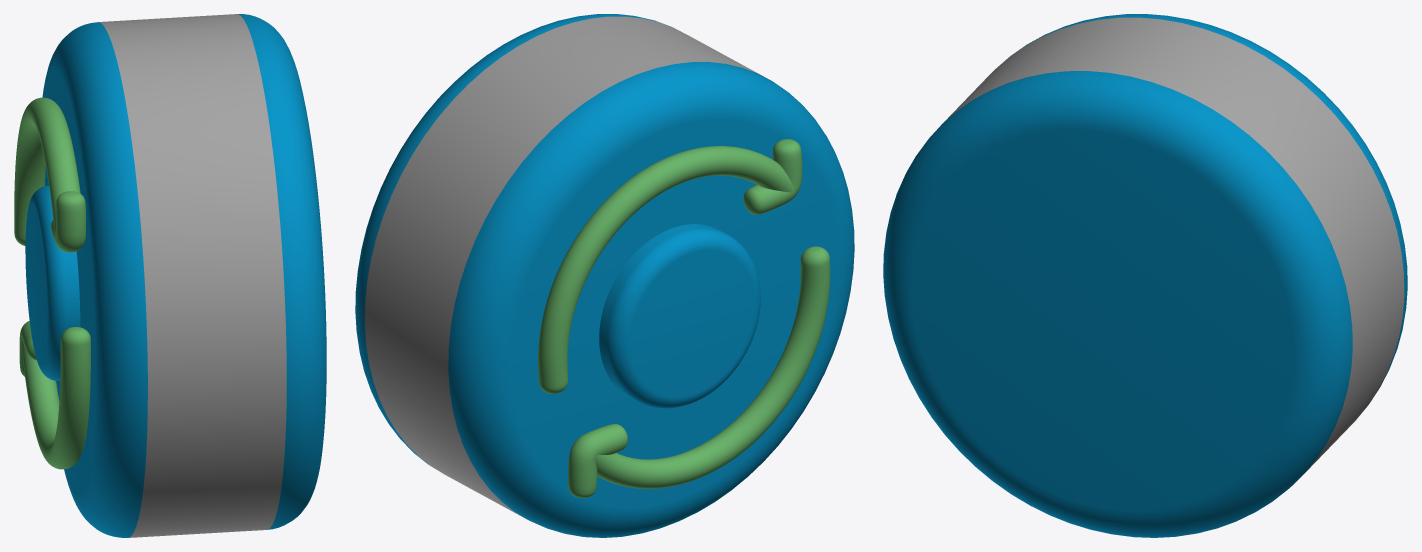
Rendered from update-3d-animated-icon-125174269544.glb.
3 views of the same model, side by side, from view 1: azimuth 30°, elevation 25°; view 2: azimuth 150°, elevation 25°; view 3: azimuth 270°, elevation 25° (orthographic). The views are drawn at different scales.
Parts seen in each view (by area): view 1: Cylinder.003, Plane.001, Cylinder.004; view 2: Cylinder.003, Plane.001, Cylinder.004; view 3: Cylinder.003.
Boxes of the visible parts, box(x1,y1,x2,y2) form: Cylinder.003: box(42, 14, 326, 537); Plane.001: box(14, 97, 90, 469); Cylinder.004: box(25, 185, 80, 380); Cylinder.003: box(355, 14, 854, 537); Plane.001: box(538, 139, 830, 497); Cylinder.004: box(599, 224, 760, 408); Cylinder.003: box(883, 14, 1407, 537).
Size of the model in its own units: 1.19 by 1.56 by 1.63.
